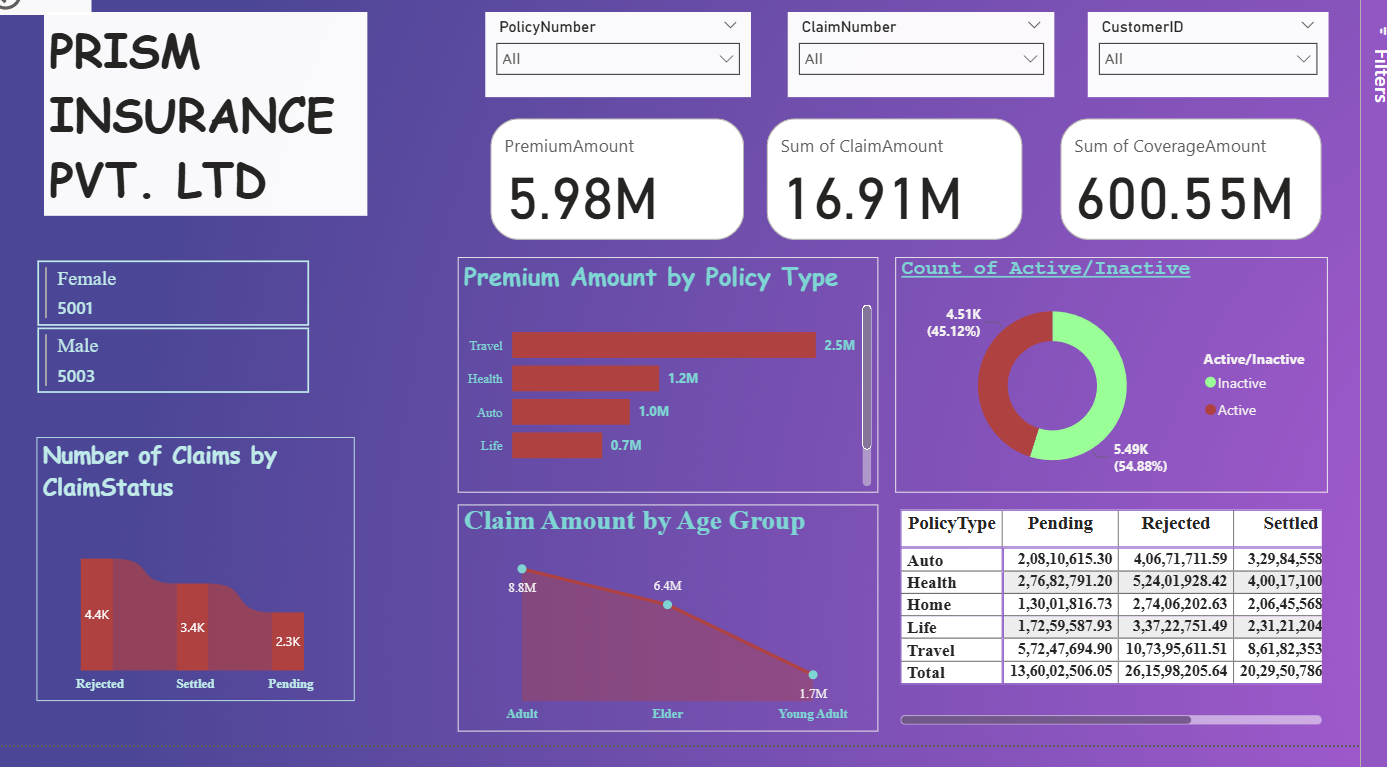

The dashboard page shown, as its layout file describes it:
{"tool":"powerbi","page":{"name":"Page 1","canvas":[1280,720],"ordinal":0},"visuals":[{"type":"slicer","fields":{"Values":["InsuranceData.ClaimNumber"]},"box":[747.9,37,248.4,79.6],"z":0},{"type":"slicer","fields":{"Values":["InsuranceData.PolicyNumber"]},"box":[466.6,37,247,79.6],"z":1000},{"type":"slicer","fields":{"Values":["InsuranceData.CustomerID"]},"box":[1026.4,37,223.7,79.6],"z":2000},{"type":"cardVisual","fields":{"Data":["Sum(InsuranceData.PremiumAmount)"]},"box":[466.6,131.7,247,123.5],"z":3000},{"type":"textbox","box":[56.3,37,300.5,189.4],"z":4000},{"type":"cardVisual","fields":{"Data":["Sum(InsuranceData.ClaimAmount)"]},"box":[723.2,131.7,248.4,123.5],"z":5000},{"type":"cardVisual","fields":{"Data":["Sum(InsuranceData.CoverageAmount)"]},"box":[996.2,131.7,253.9,123.5],"z":6000},{"type":"actionButton","box":[0,0,100,40],"z":7000},{"type":"multiRowCard","fields":{"Values":["InsuranceData.Gender","CountNonNull(InsuranceData.Gender)"]},"box":[49.4,264.8,256.6,140],"z":8000},{"type":"ribbonChart","title":"Number of Claims by ClaimStatus","fields":{"Category":["InsuranceData.ClaimStatus"],"Y":["CountNonNull(InsuranceData.ClaimStatus)"]},"box":[49.4,432.2,296.4,245.6],"z":9000},{"type":"barChart","title":" Premium Amount by Policy Type","fields":{"Category":["InsuranceData.PolicyType"],"Y":["Sum(InsuranceData.PremiumAmount)"]},"box":[440.5,264.8,391.1,219.6],"z":10000},{"type":"lineChart","title":"Claim Amount by Age Group","fields":{"Category":["InsuranceData.Age Group"],"Y":["Sum(InsuranceData.ClaimAmount)"]},"box":[440.5,495.4,391.1,211.3],"z":11000},{"type":"donutChart","title":"Count of Active/Inactive ","fields":{"Category":["InsuranceData.Active/Inactive"],"Y":["CountNonNull(InsuranceData.Active/Inactive)"]},"box":[848,264.8,402.1,219.6],"z":12000},{"type":"pivotTable","fields":{"Rows":["InsuranceData.PolicyType"],"Values":["Sum(InsuranceData.CoverageAmount)"],"Columns":["InsuranceData.ClaimStatus"]},"box":[848,495.4,402.1,209.9],"z":13000}]}

Visuals, with their boxes in screenshot pixels (x1, y1, x2, y2), scaled from the page's 1280x720 canvas onto the 1387x767 screenshot:
slicer - InsuranceData.ClaimNumber: 810/39/1080/124
slicer - InsuranceData.PolicyNumber: 506/39/773/124
slicer - InsuranceData.CustomerID: 1112/39/1355/124
cardVisual - Sum(InsuranceData.PremiumAmount): 506/140/773/272
textbox: 61/39/387/241
cardVisual - Sum(InsuranceData.ClaimAmount): 784/140/1053/272
cardVisual - Sum(InsuranceData.CoverageAmount): 1079/140/1355/272
actionButton: 0/0/108/43
multiRowCard - InsuranceData.Gender x CountNonNull(InsuranceData.Gender): 54/282/332/431
"Number of Claims by ClaimStatus" ribbonChart: 54/460/375/722
" Premium Amount by Policy Type" barChart: 477/282/901/516
"Claim Amount by Age Group" lineChart: 477/528/901/753
"Count of Active/Inactive " donutChart: 919/282/1355/516
pivotTable - InsuranceData.PolicyType x Sum(InsuranceData.CoverageAmount): 919/528/1355/751
